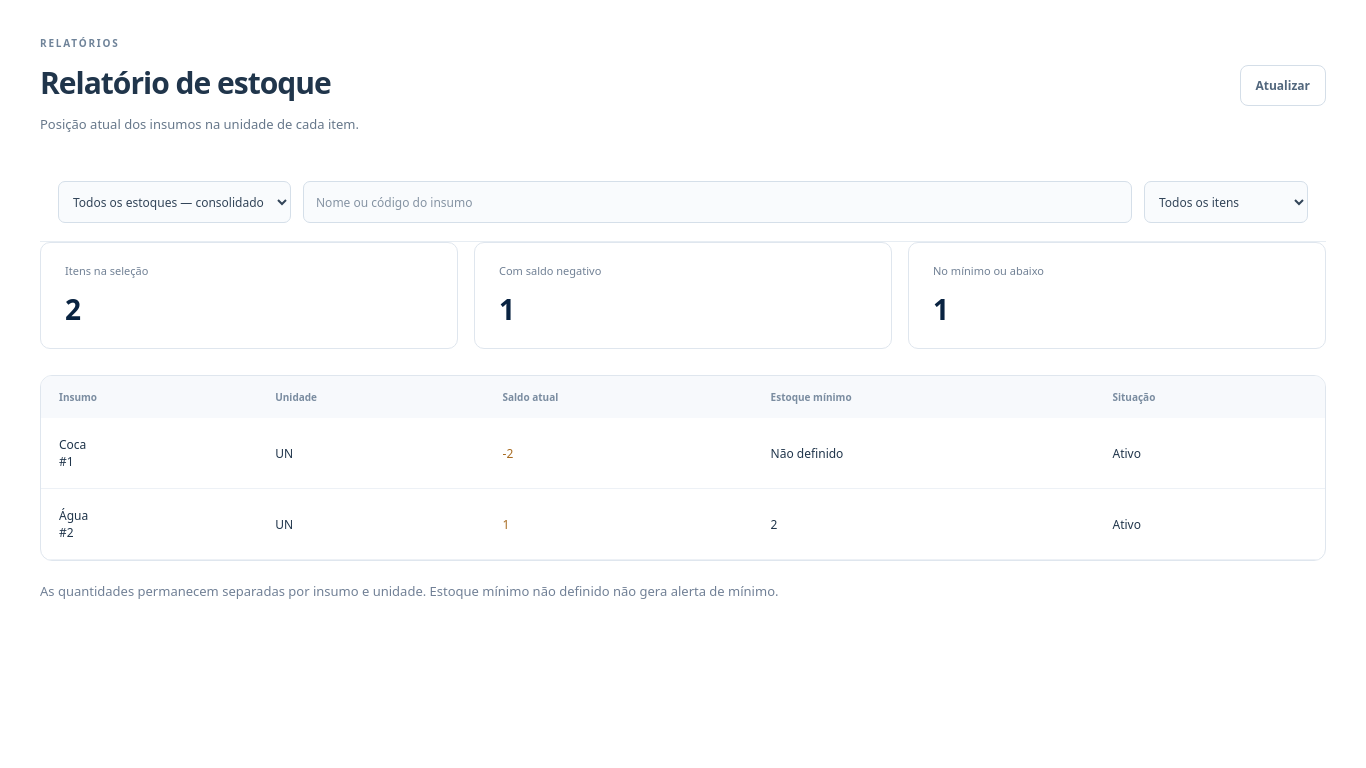
Test: keeps optional minimum separate from negative balances and offers no write actions
Expected: the text "Coca" is shown, [59, 436, 86, 453]
Select "No mínimo ou abaixo" in the dropdown named "Filtrar relatório de estoque" at (1226, 202), box [1144, 181, 1308, 223]
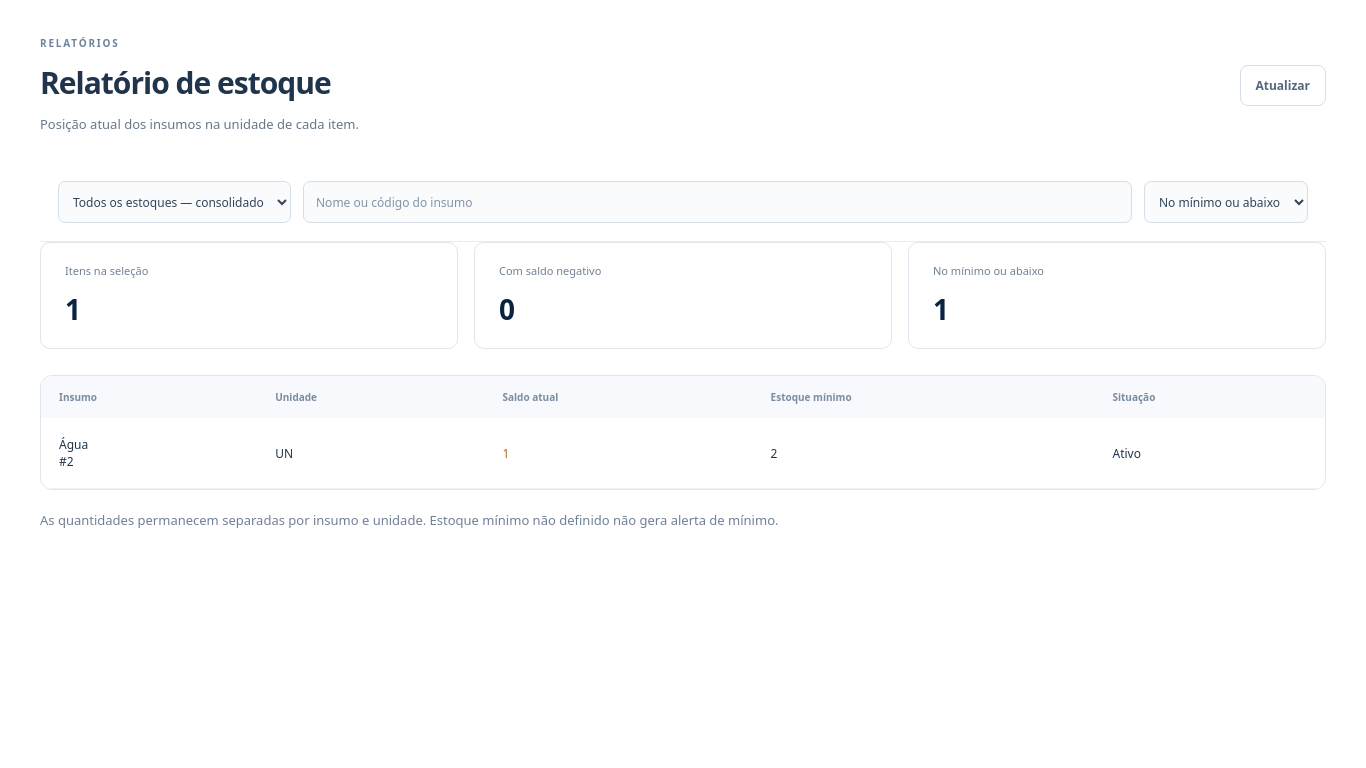
Expected: the text "Água" is shown, [59, 436, 88, 453]
Result: the text "Coca" is gone
Select "Saldo negativo" in the dropdown named "Filtrar relatório de estoque" at (1226, 202), box [1144, 181, 1308, 223]
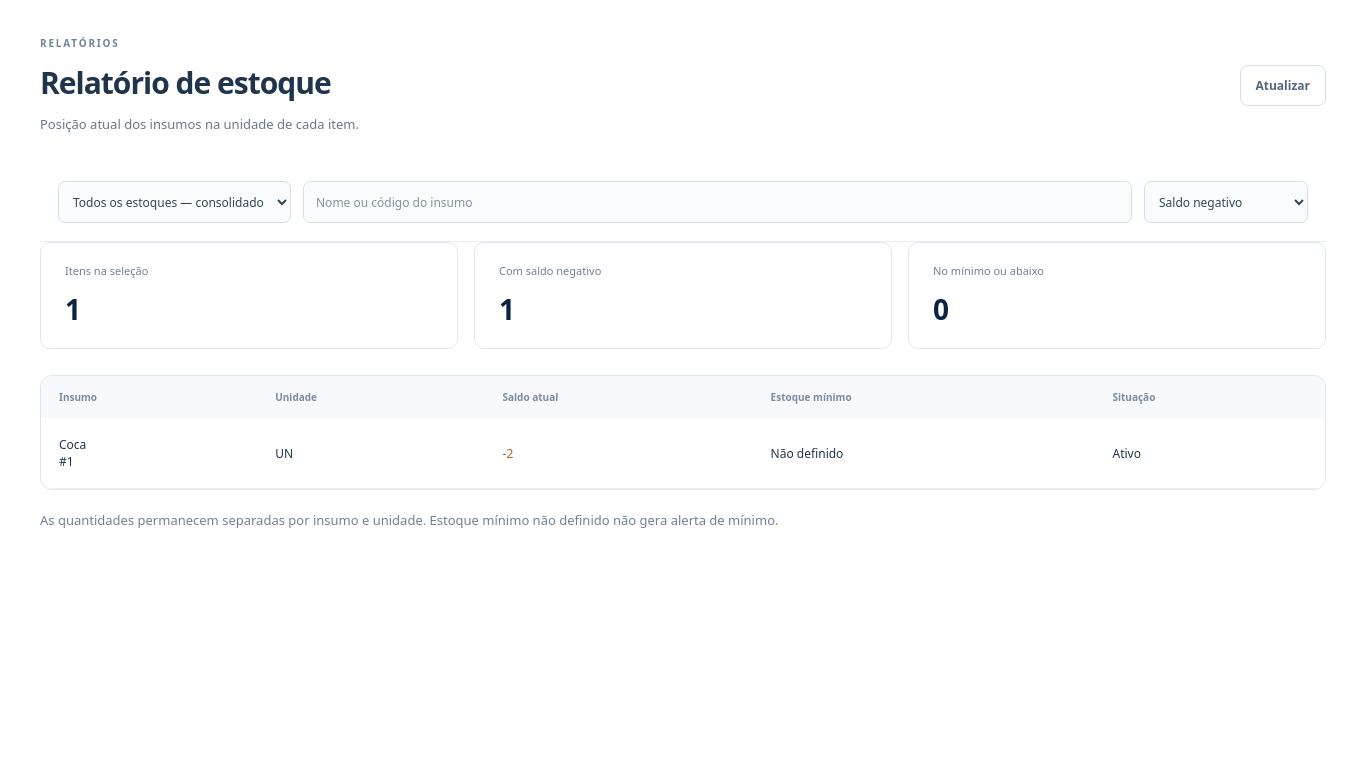
Result: the text "Coca" is shown at [59, 436, 86, 453]
Result: the text "Água" is gone
